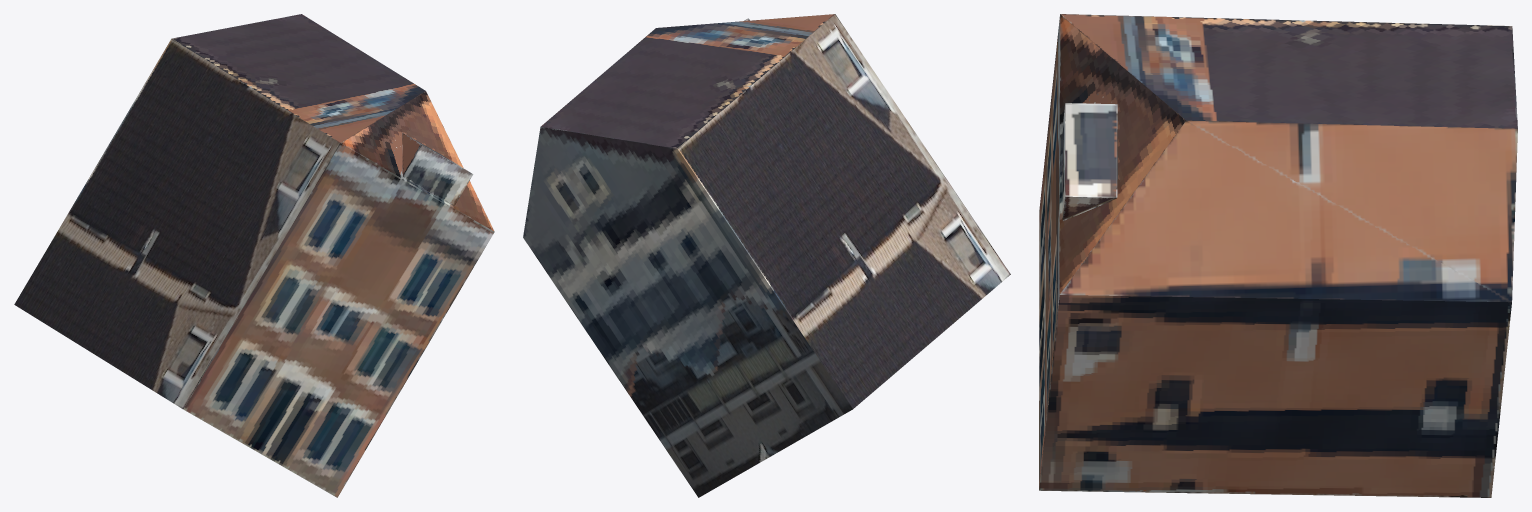
3 views of the same model, side by side, from view 1: azimuth 30°, elevation 25°; view 2: azimuth 150°, elevation 25°; view 3: azimuth 270°, elevation 25° (orthographic). The views are drawn at different scales.
Parts seen in each view (by area): view 1: BAG_0599100000760398 (×2); view 2: BAG_0599100000760398; view 3: BAG_0599100000760398 (×3).
Boxes of the visible parts, x1,y1,x2,y2 form: BAG_0599100000760398 (×2): (14,14,494,497); BAG_0599100000760398: (523,14,1010,497); BAG_0599100000760398 (×3): (1039,14,1517,497).
Bounding box in the file's own units: 13.58 × 14.2 × 12.38.
Materials: 1 (1 with a texture image).
